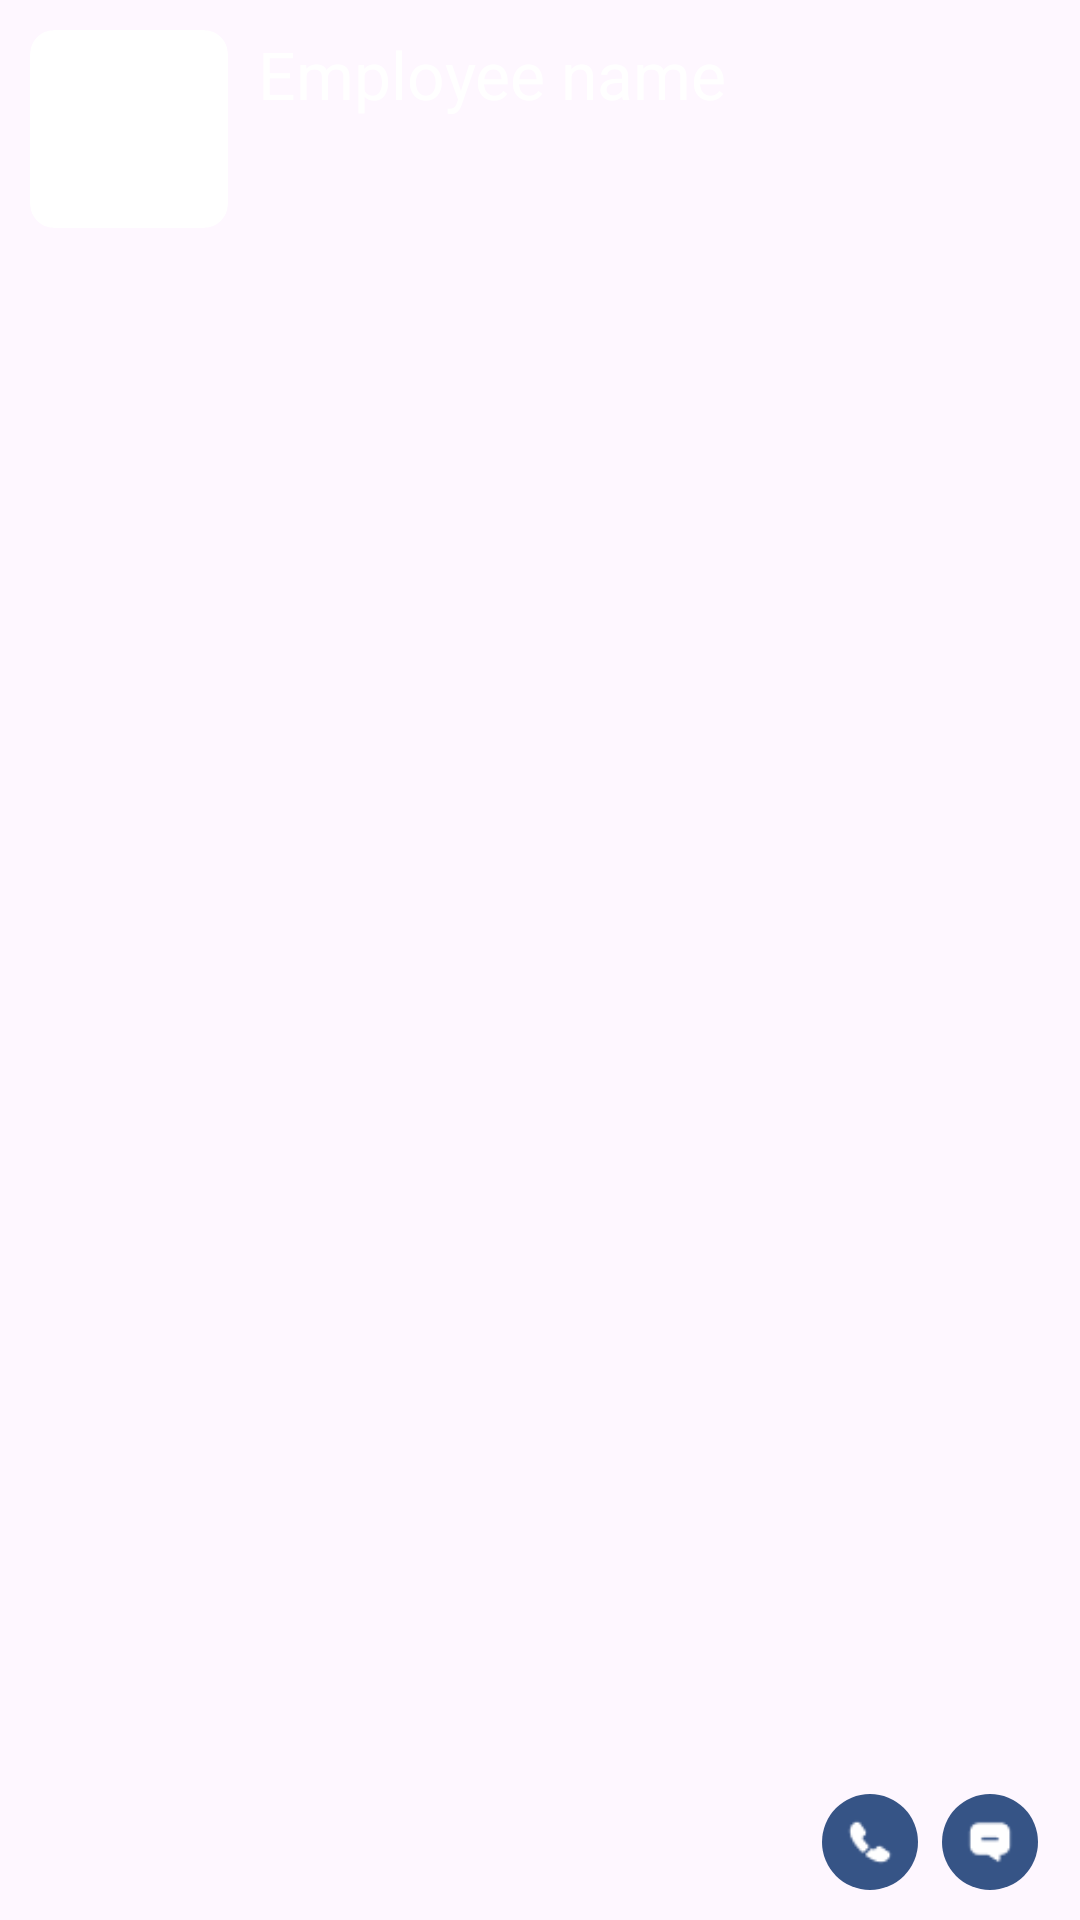

Icon click points for this 1080px x 1920px phone screenshot, format (x,y):
call: (870,1842)
message: (990,1842)
